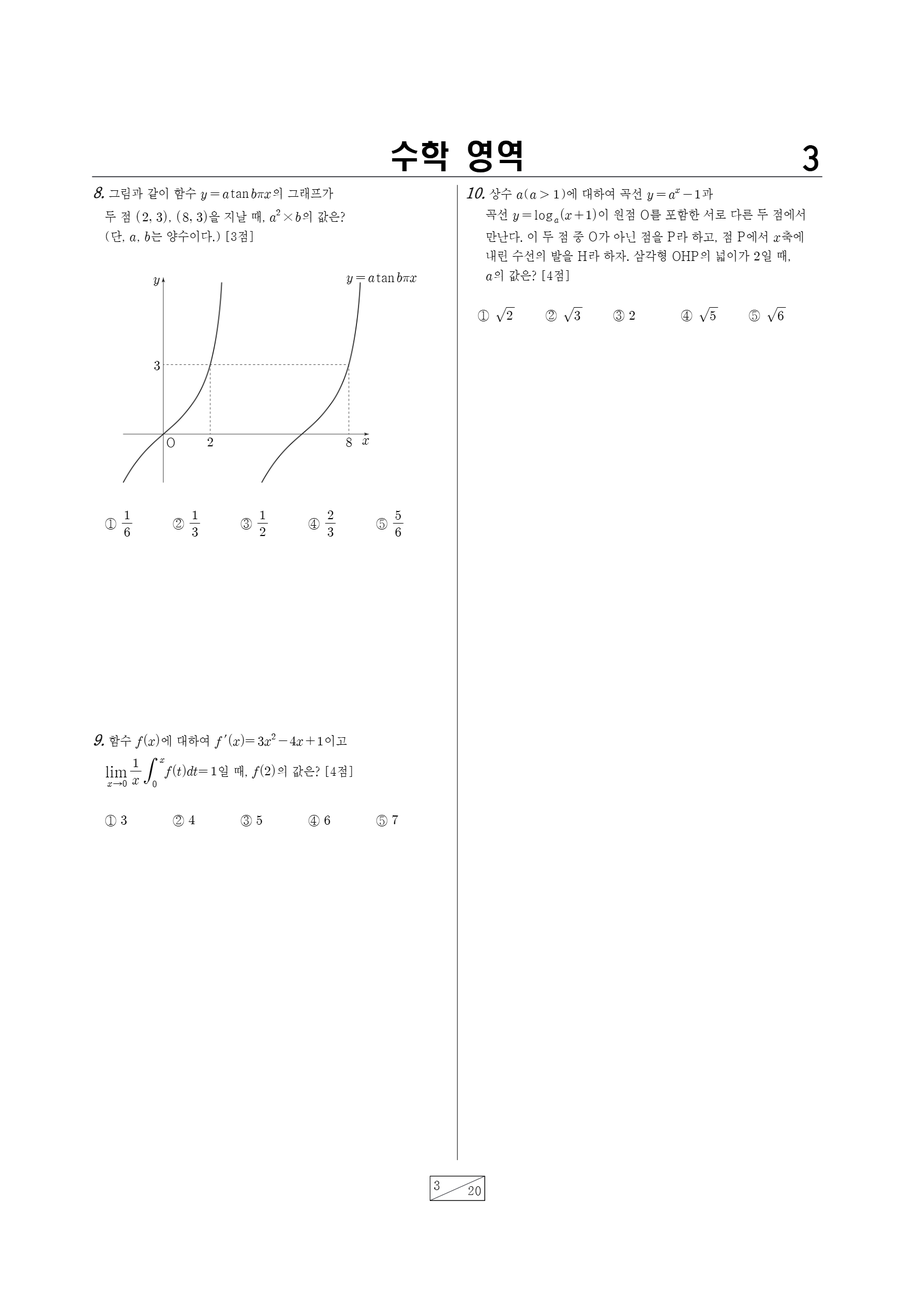opt_1: (103, 515, 117, 531), (104, 813, 118, 827), (477, 309, 488, 322)
opt_2: (172, 516, 185, 530), (172, 814, 184, 827), (545, 308, 557, 321)
opt_3: (240, 515, 252, 530), (240, 813, 252, 827), (613, 308, 625, 322)
opt_4: (307, 516, 321, 530), (680, 309, 692, 322), (308, 813, 319, 827)
opt_5: (375, 517, 388, 530), (748, 308, 760, 322), (375, 814, 387, 827)
